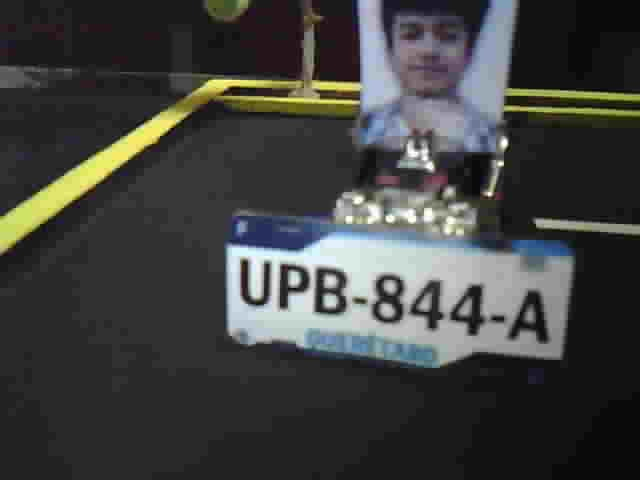PLACA: (223, 206, 579, 391)
ROSTRO: (363, 1, 501, 153)
